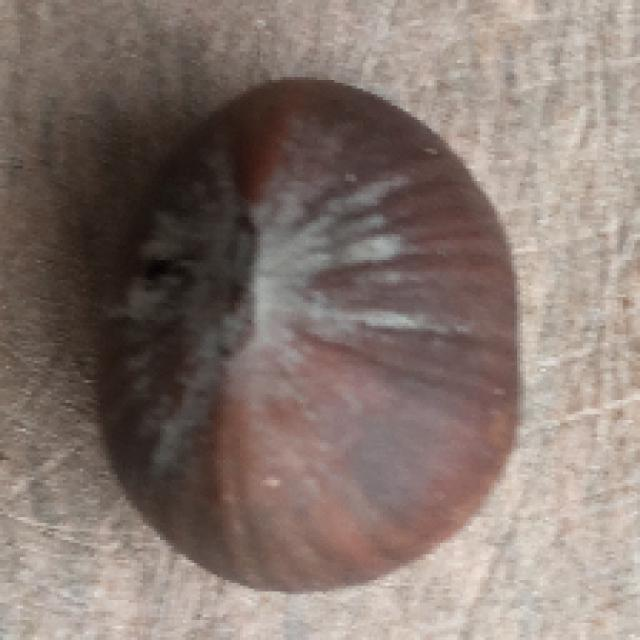DamagedHazelnut: (83, 84, 522, 592)
